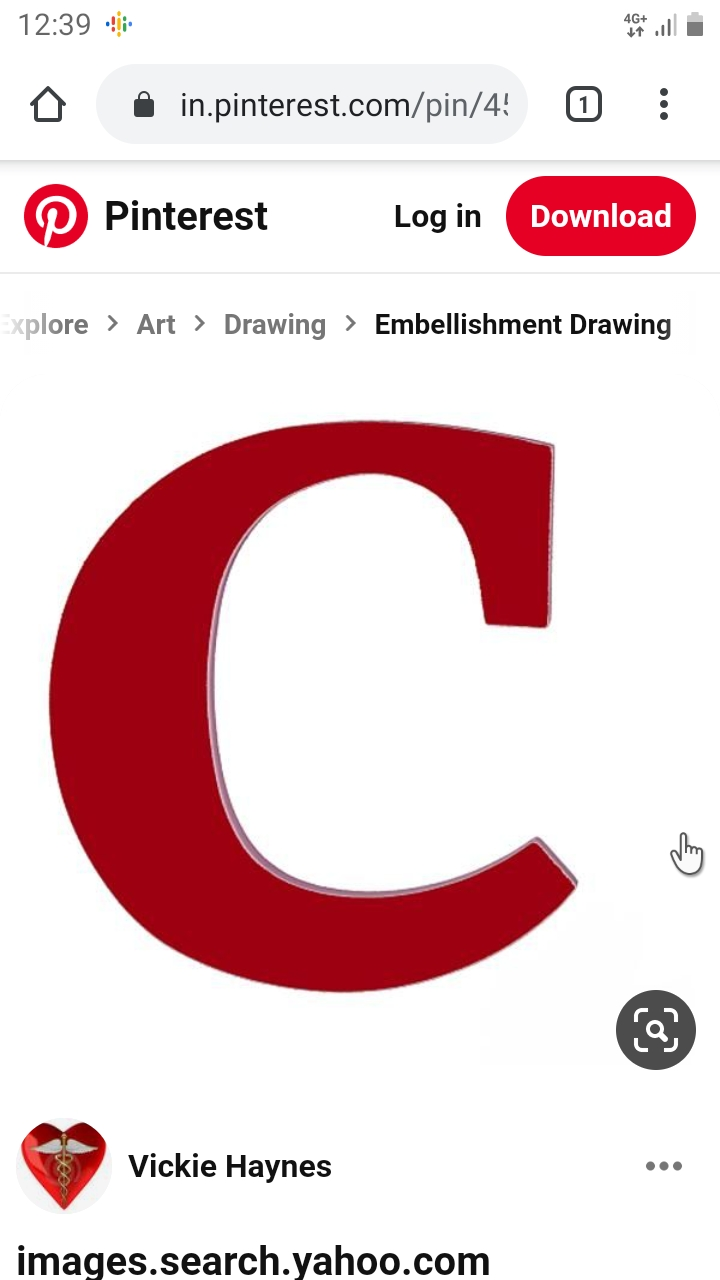zone C: (41, 366, 615, 1008)
